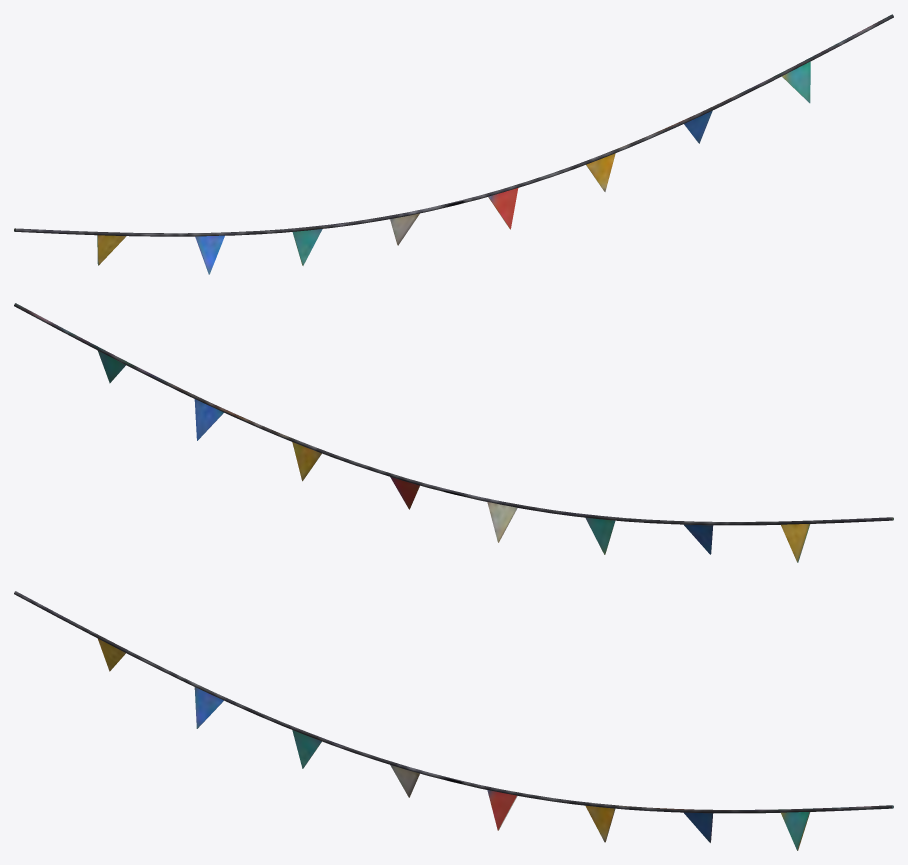
File: bunting.glb
3 views of the same model, one above another, from view 1: azimuth 30°, elevation 25°; view 2: azimuth 150°, elevation 25°; view 3: azimuth 330°, elevation 25° (orthographic).
Visible parts, largest first — view 1: body; view 2: body; view 3: body.
Boxes of the visible parts, <box> form: body: <box>14,14,893,274</box>; body: <box>14,303,893,562</box>; body: <box>14,591,893,850</box>.
Size of the model in its own units: 6.82 by 0.8619 by 0.1743.
Materials: 1 (1 with a texture image).
